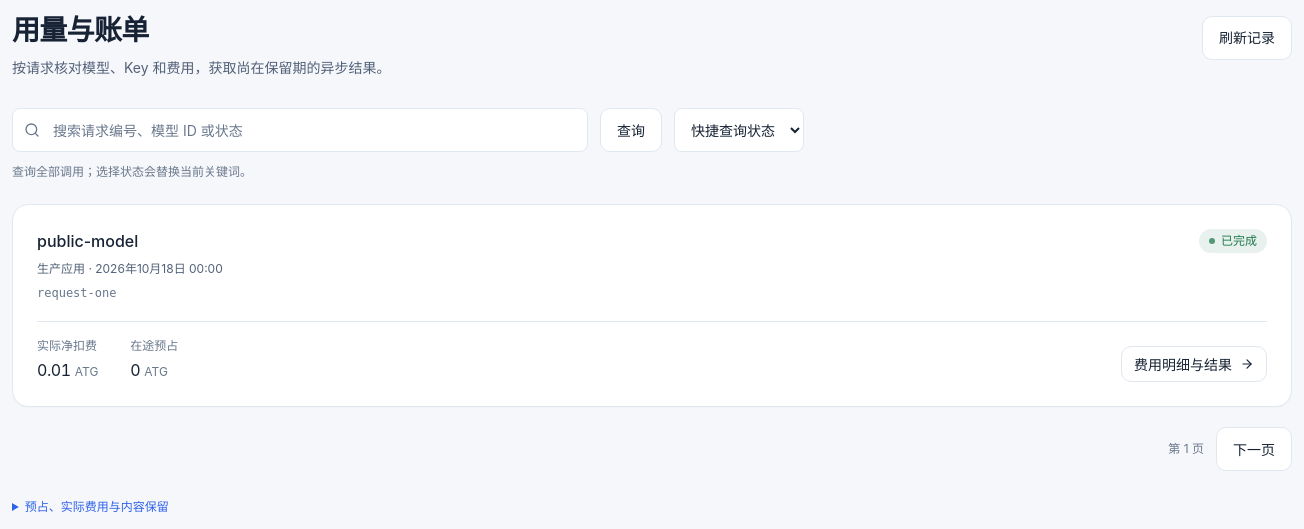
queries all request records by status and resets the cursor when the search changes
Click the button "下一页": (1254, 449) [1216,427,1292,471]
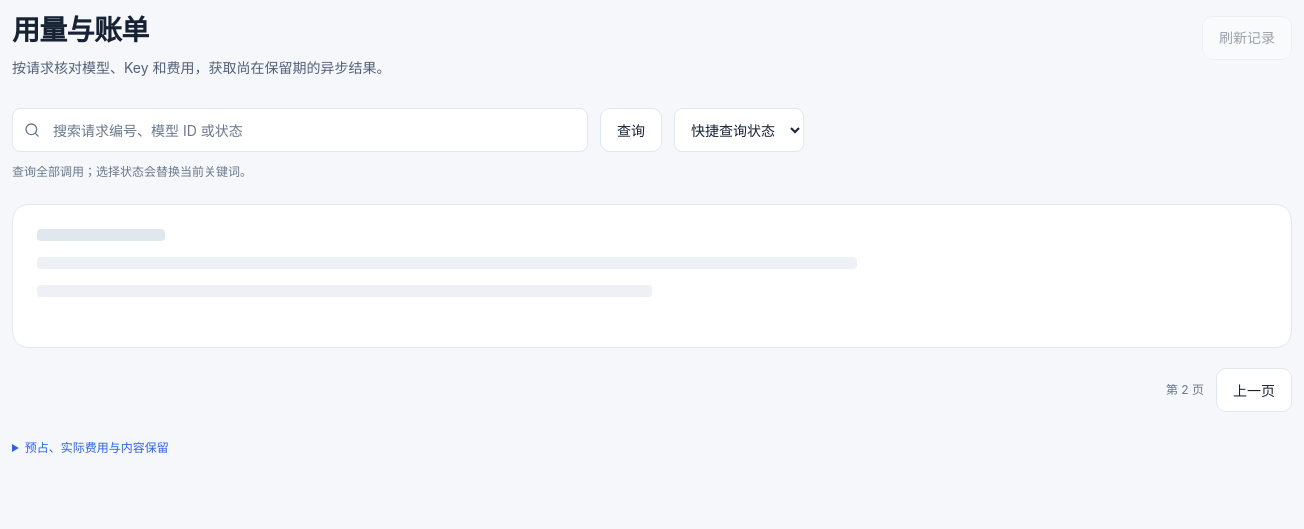
Select "用量待核实" in the dropdown named "快捷查询状态": (739, 130) [674,108,804,152]
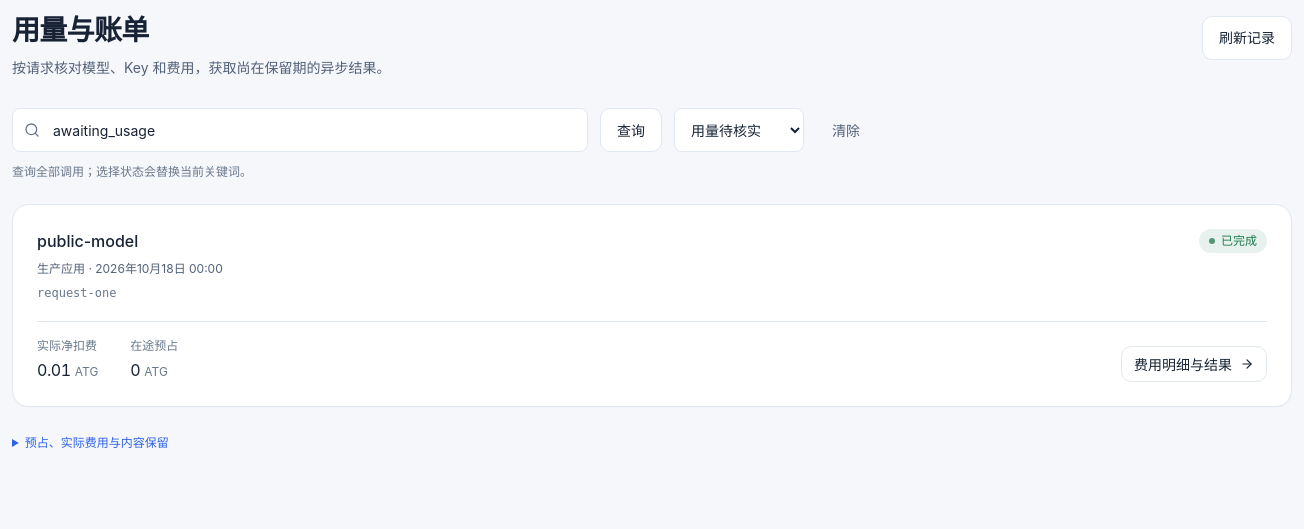
Result: the search field named "搜索明细" holds "awaiting_usage" at [12,108,588,152]
Result: the button "上一页" is gone
Click the button "清除": (846, 130) [816,108,876,152]
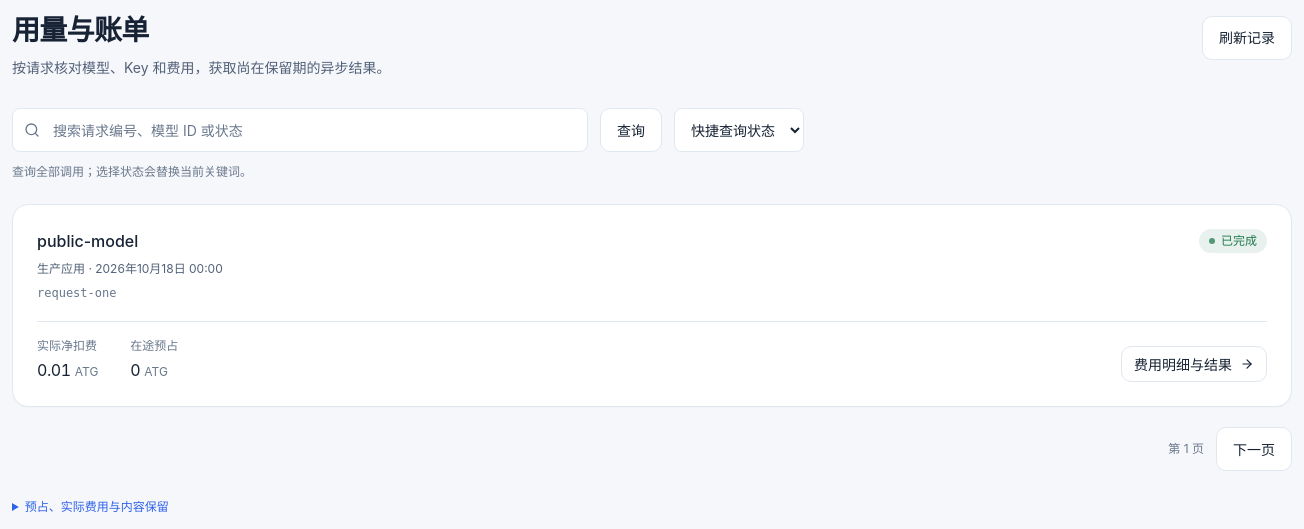
Result: the search field named "搜索明细" is empty at [12,108,588,152]
